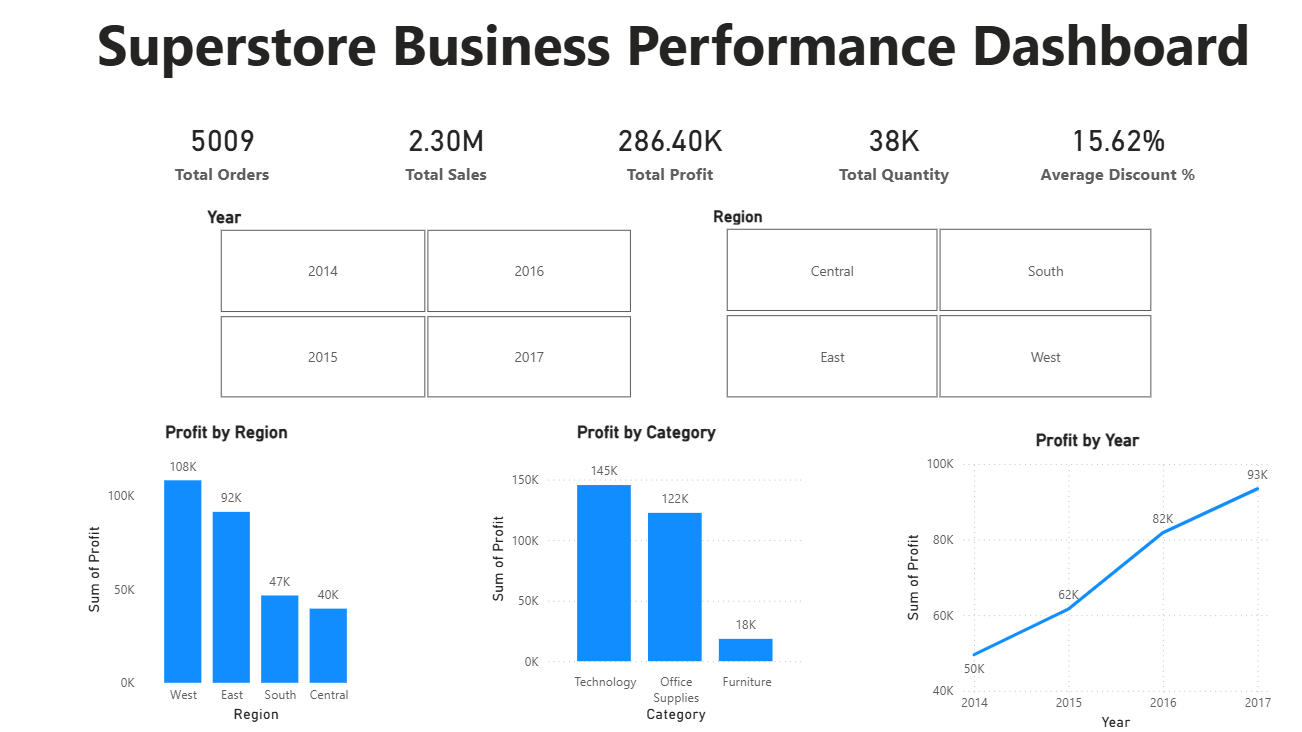

This screenshot's page, from the dashboard's own definition file:
{"tool":"powerbi","page":{"name":"Page 1","canvas":[1280,720],"ordinal":0},"visuals":[{"type":"card","fields":{"Values":["Sample - Superstore.Total Sales"]},"box":[328.8,104,217.9,91.4],"z":0},{"type":"card","fields":{"Values":["Sample - Superstore.Total Profit"]},"box":[546.6,104,217.9,91.4],"z":1000},{"type":"card","fields":{"Values":["Sample - Superstore.Total Quantity"]},"box":[764.5,104,217.9,91.4],"z":2000},{"type":"card","fields":{"Values":["Sample - Superstore.Total Orders"]},"box":[110.9,104,217.9,91.4],"z":3000},{"type":"card","fields":{"Values":["Sample - Superstore.Average Discount %"]},"box":[982.4,104,217.9,91.4],"z":4000},{"type":"columnChart","title":"Profit by Category","fields":{"Category":["Sample - Superstore.Category"],"Y":["Sum(Sample - Superstore.Profit)"]},"box":[474.7,415.6,316.1,296.7],"z":5000},{"type":"lineChart","title":"Profit by Year","fields":{"Category":["Sample - Superstore.Order Date.Variation.Date Hierarchy.Year"],"Y":["Sum(Sample - Superstore.Profit)"]},"box":[878.3,423.3,366.7,296.7],"z":6000},{"type":"columnChart","title":"Profit by Region","fields":{"Category":["Sample - Superstore.Region"],"Y":["Sum(Sample - Superstore.Profit)"]},"box":[81.7,415.6,285,296.7],"z":7000},{"type":"slicer","fields":{"Values":["Sample - Superstore.Order Date.Variation.Date Hierarchy.Year"]},"box":[192.6,200.3,449.4,198.4],"z":8000},{"type":"slicer","fields":{"Values":["Sample - Superstore.Region"]},"box":[684.7,200.3,463,198.4],"z":8001},{"type":"textbox","box":[53.5,4.9,1210.9,91.4],"z":8002}]}

Visuals, with their boxes in screenshot pixels (x1, y1, x2, y2), scaled from the page's 1280x720 canvas onto the 1302x732 screenshot:
card - Sample - Superstore.Total Sales: x1=334 y1=106 x2=556 y2=199
card - Sample - Superstore.Total Profit: x1=556 y1=106 x2=778 y2=199
card - Sample - Superstore.Total Quantity: x1=778 y1=106 x2=999 y2=199
card - Sample - Superstore.Total Orders: x1=113 y1=106 x2=334 y2=199
card - Sample - Superstore.Average Discount %: x1=999 y1=106 x2=1221 y2=199
"Profit by Category" columnChart: x1=483 y1=423 x2=804 y2=724
"Profit by Year" lineChart: x1=893 y1=430 x2=1266 y2=731
"Profit by Region" columnChart: x1=83 y1=423 x2=373 y2=724
slicer - Sample - Superstore.Order Date.Variation.Date Hierarchy.Year: x1=196 y1=204 x2=653 y2=405
slicer - Sample - Superstore.Region: x1=696 y1=204 x2=1167 y2=405
textbox: x1=54 y1=5 x2=1286 y2=98
